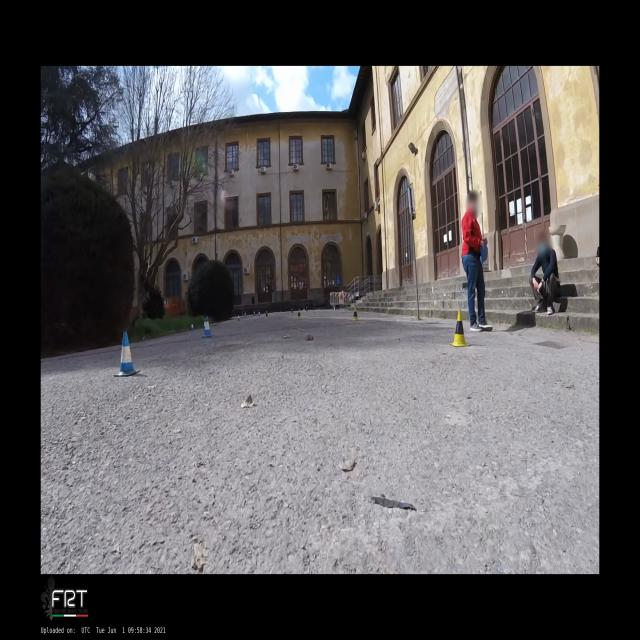blue_cone: (113, 331, 140, 376), (202, 316, 214, 338), (202, 317, 205, 331), (190, 322, 194, 331), (237, 314, 240, 321), (253, 311, 256, 316), (258, 311, 260, 316), (244, 312, 246, 316)
yellow_cone: (449, 310, 471, 347), (351, 307, 359, 321), (296, 308, 302, 320), (265, 310, 269, 318), (290, 308, 294, 316), (306, 306, 308, 313), (303, 306, 305, 311)
